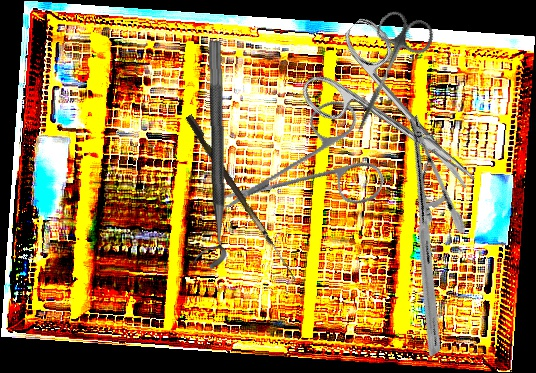Fixation Ring: (189, 40, 227, 270)
Hook Surgical: (182, 114, 304, 281)
Iris Scissors: (291, 13, 505, 224), (217, 71, 407, 263), (335, 5, 438, 146)
Needle Holder: (313, 113, 536, 358)
